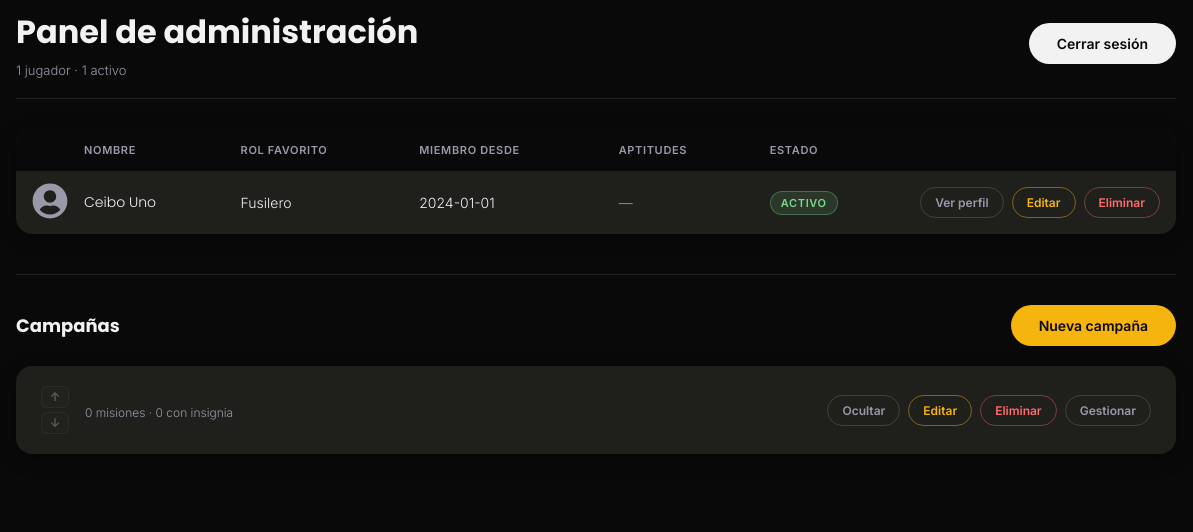
Test: Admin › deactivates a player when Eliminar is clicked
Click the button "Eliminar" in the row of "Ver perfil" at (1122, 202), box [1084, 187, 1160, 218]
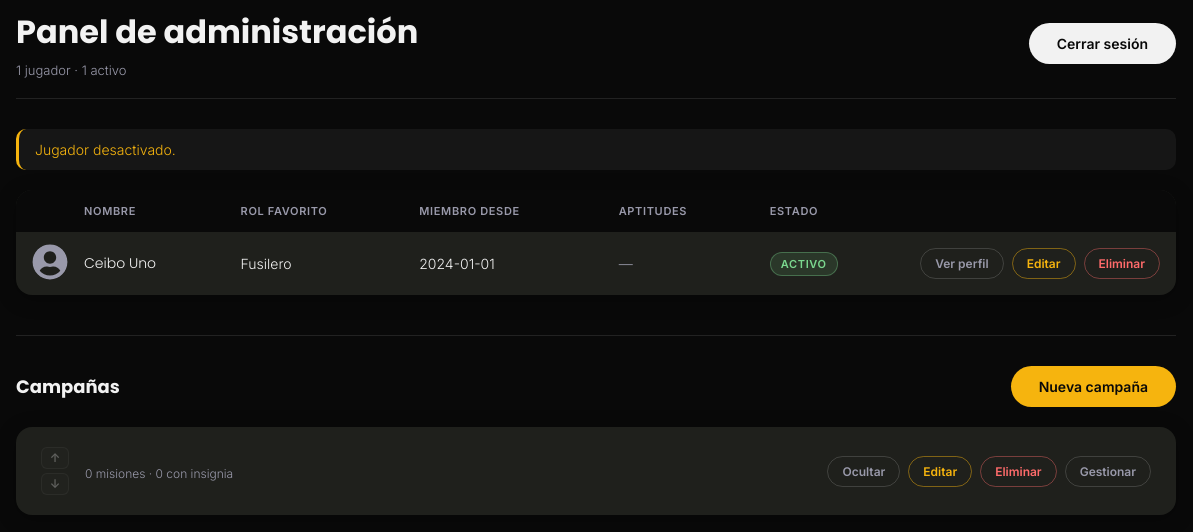
expect the text "Jugador desactivado." is shown: met, box [16, 129, 1176, 170]
